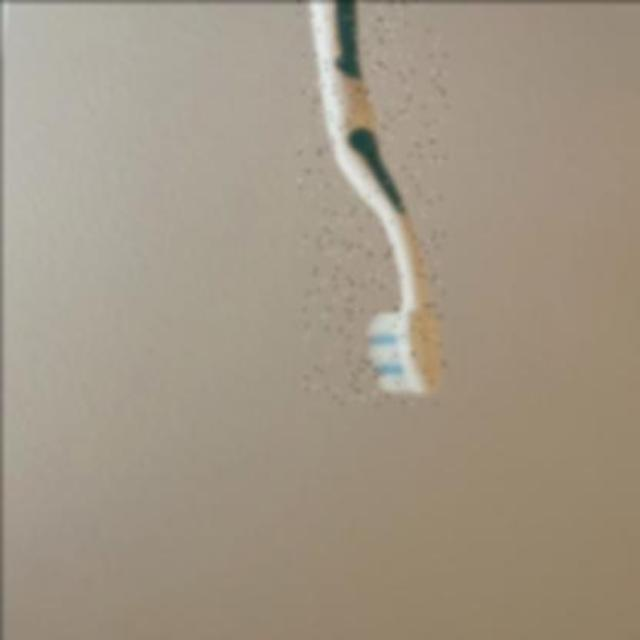toothbrush: (298, 0, 447, 404)
